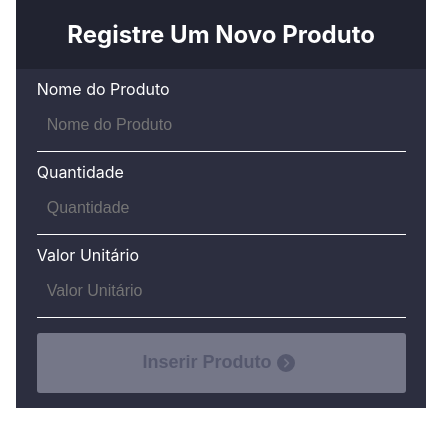
Test case: full form input › submit button should be set enable if all inputs are valid
Step 1. Clear the field with placeholder "Valor Unitário" → (221, 291), box [37,265,406,318]
Check: the button "Inserir Produto" is disabled, box [37,333,406,393]
Step 2. Type "Mock Product" into the field with placeholder "Nome do Produto" → (221, 125), box [37,99,406,152]
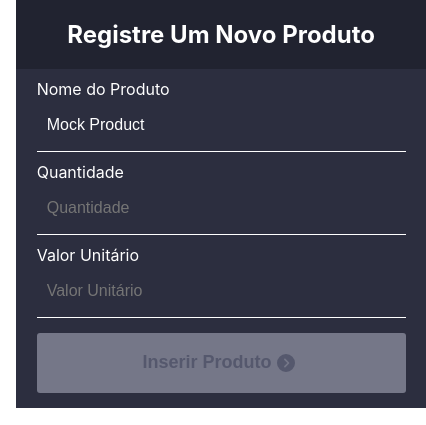
Step 3. Type "10" into the field with placeholder "Quantidade" → (221, 208), box [37,182,406,235]
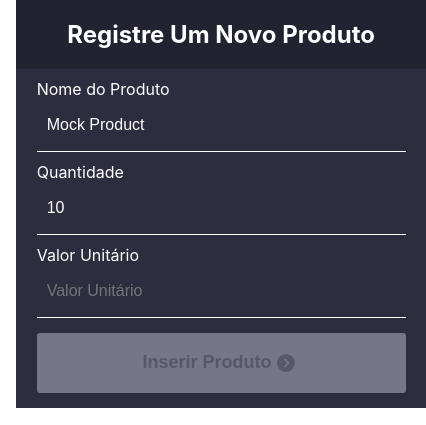
Step 4. Type "50" into the field with placeholder "Valor Unitário" → (221, 291), box [37,265,406,318]
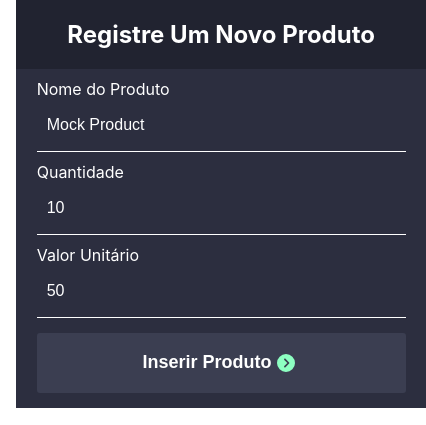
Check: the button "Inserir Produto" is enabled, box [37,333,406,393]
